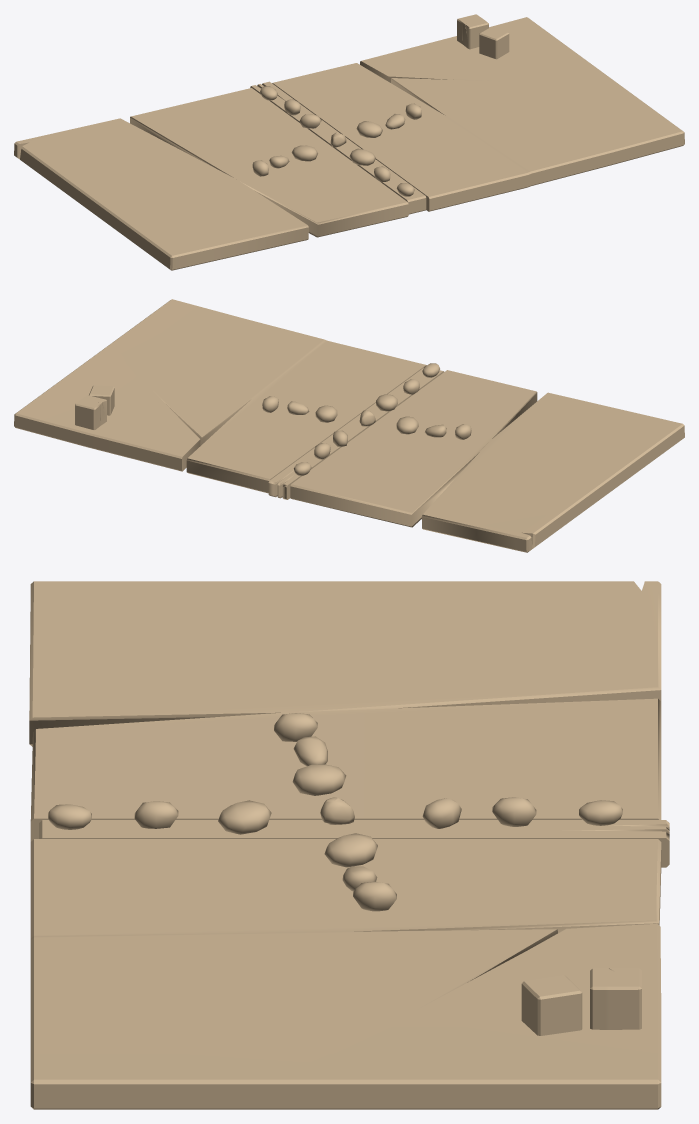
The model's file is game-board.glb.
3 renders of one model, top to bottom at view 1: azimuth 30°, elevation 25°; view 2: azimuth 150°, elevation 25°; view 3: azimuth 270°, elevation 25°, orthographic. The views are drawn at different scales.
Visible parts, largest first — view 1: polySurface19; view 2: polySurface19; view 3: polySurface19.
Part boxes in pixels (x1,y1,x2,y2): polySurface19: (14, 14, 684, 270); polySurface19: (14, 299, 684, 552); polySurface19: (29, 581, 669, 1109).
Bounding box in the file's own units: 0.5293 × 0.0375 × 0.2849.
